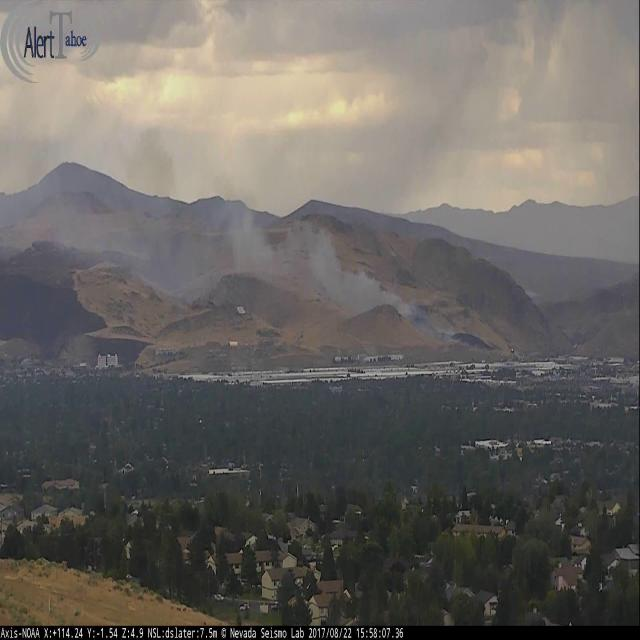smoke: (46, 100, 465, 348)
